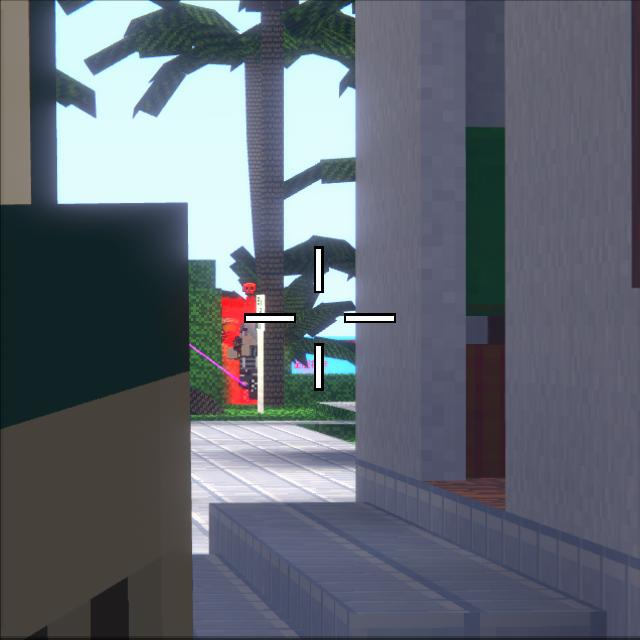Enemy: (225, 316, 255, 400)
